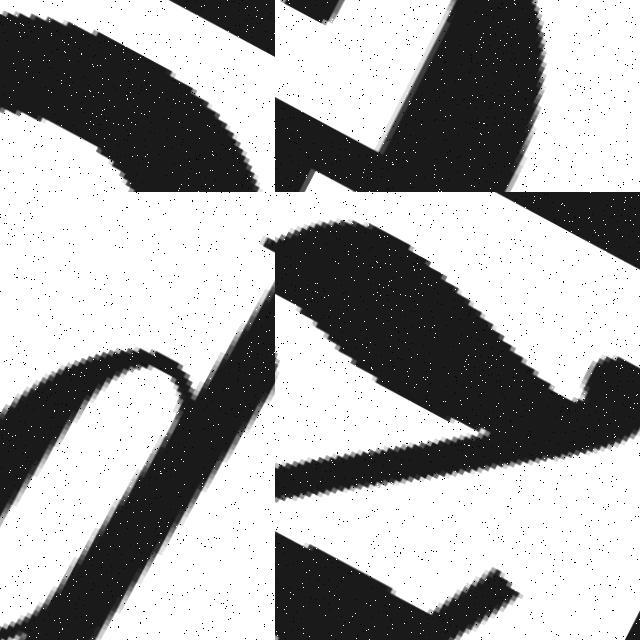C: (0, 13, 261, 192)
E: (275, 0, 546, 192)
P: (0, 276, 275, 640)
Z: (275, 192, 640, 640)
